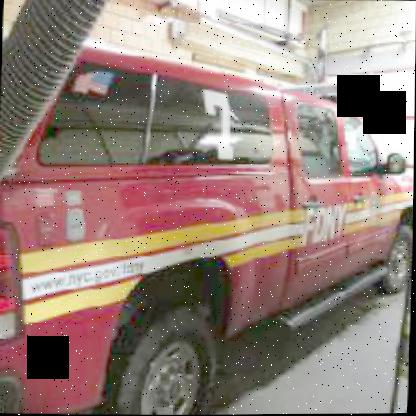emergency: (0, 29, 415, 415)
